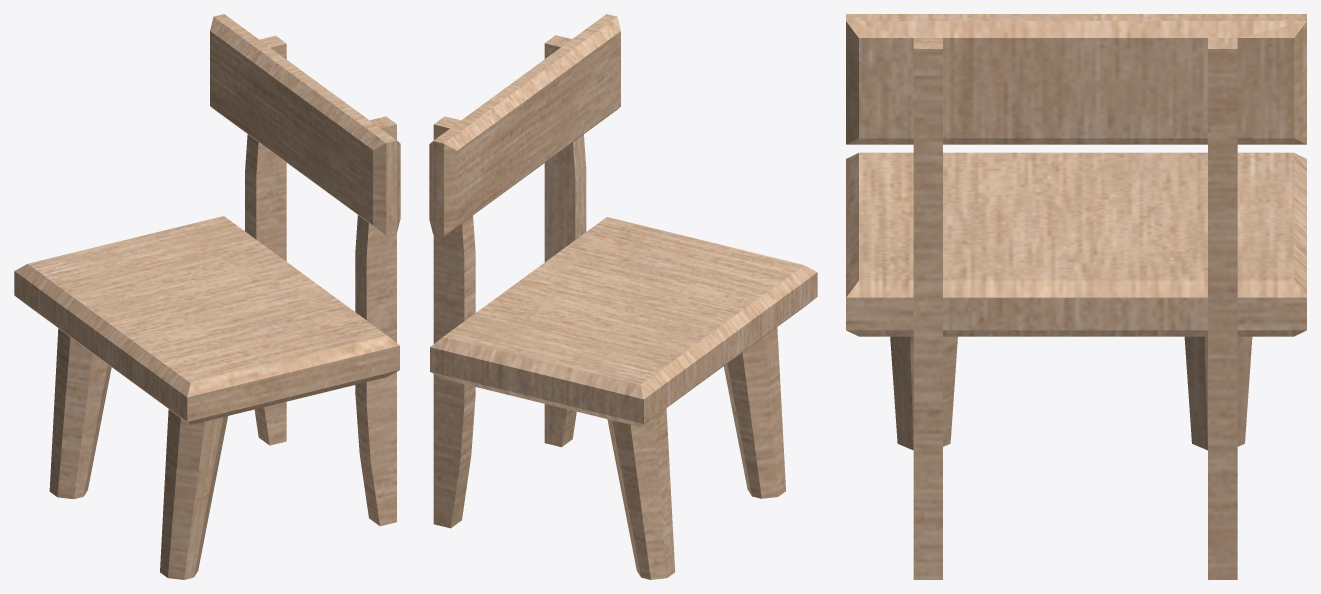
Rendered from chair.FBX.
The picture shows the model from 3 angles, left to right: view 1: azimuth 30°, elevation 25°; view 2: azimuth 150°, elevation 25°; view 3: azimuth 270°, elevation 25°; orthographic projection. The views are drawn at different scales.
Visible parts, largest first — view 1: chair; view 2: chair; view 3: chair.
Boxes of the visible parts, box(x1,y1,x2,y2) form: chair: box(14, 14, 400, 579); chair: box(429, 14, 817, 579); chair: box(846, 14, 1306, 579).
Bounding box in the file's own units: 30.7 × 50.7 × 39.05.
